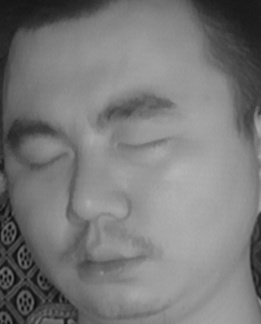blink: (116, 127, 174, 166), (20, 143, 72, 181)
mouth: (57, 229, 156, 288)
